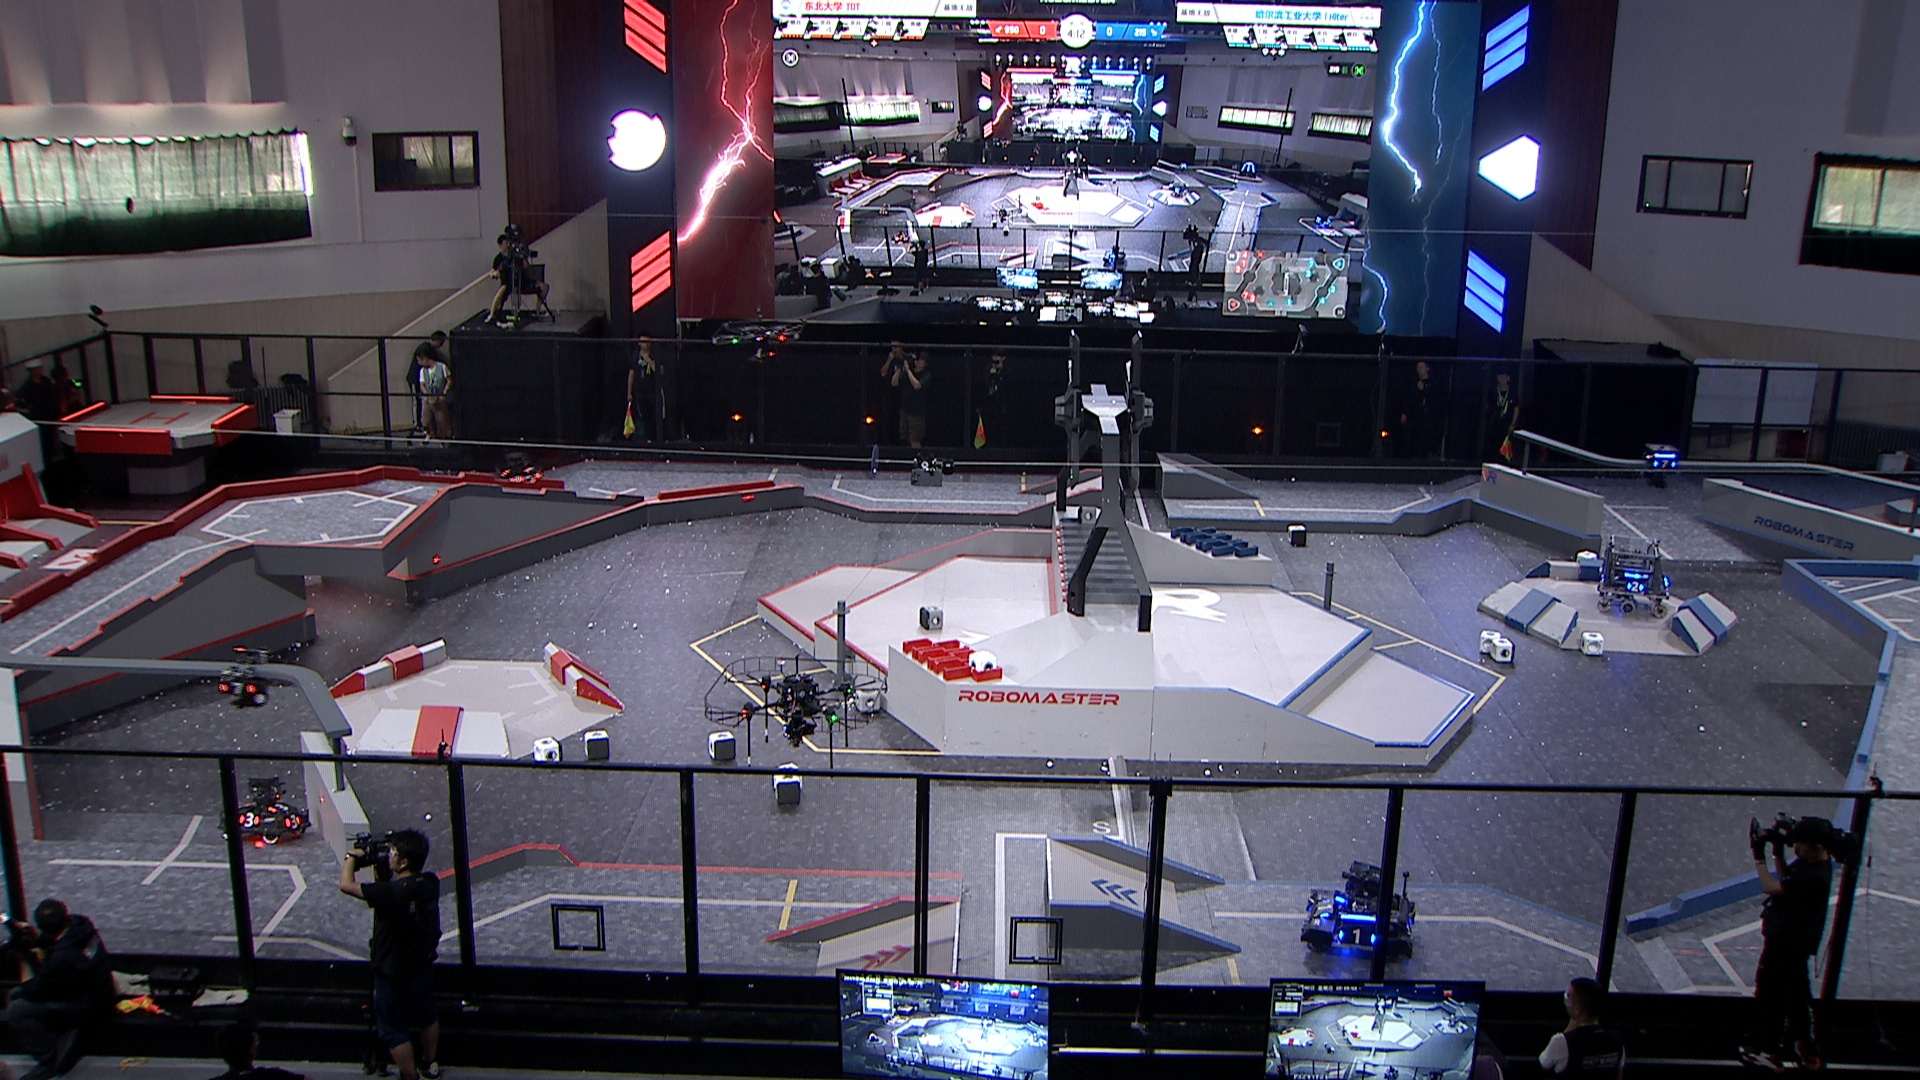armor: (1337, 926, 1377, 945), (218, 679, 257, 698), (237, 811, 262, 829), (1403, 916, 1419, 943), (282, 814, 305, 832), (266, 802, 295, 815), (1317, 897, 1333, 920), (1652, 458, 1677, 469), (1626, 580, 1646, 593), (508, 473, 526, 484)
car: (1299, 861, 1420, 964), (218, 777, 309, 847), (1600, 534, 1671, 617), (496, 452, 541, 491)
ignore: (1101, 245, 1126, 266), (771, 208, 789, 235), (1240, 161, 1258, 179), (1168, 183, 1188, 200), (1313, 214, 1335, 229), (877, 200, 894, 219), (893, 229, 910, 245), (1178, 162, 1188, 173)
watcher: (216, 646, 276, 708), (1642, 443, 1679, 488)
